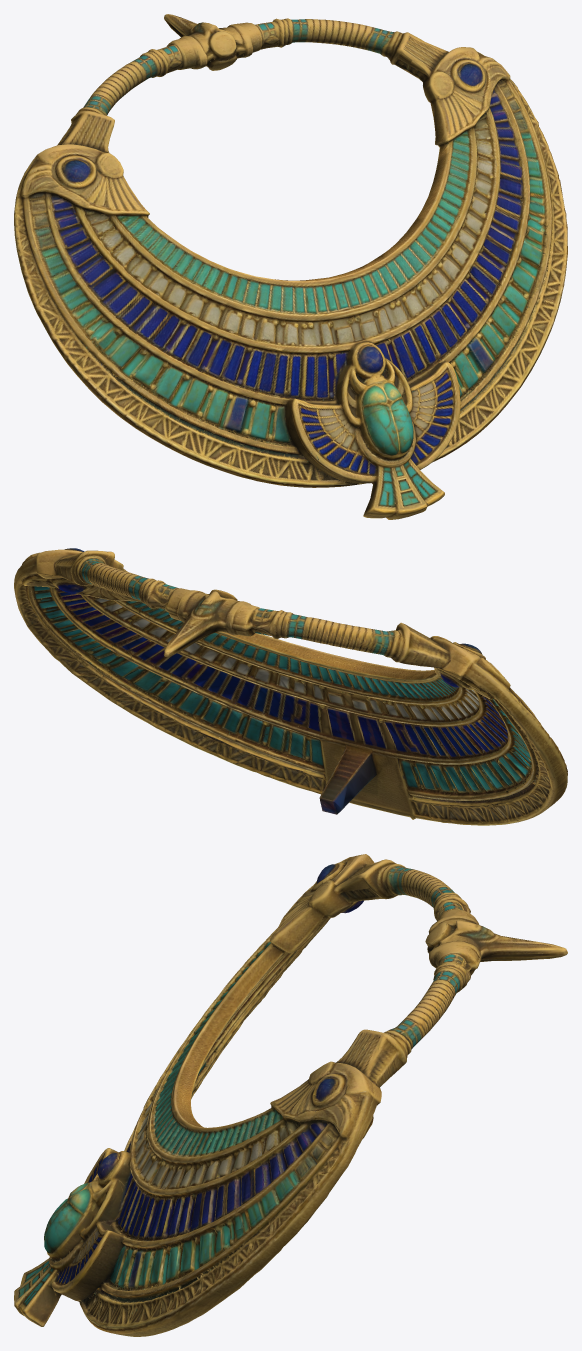
File: WF_EgyptianTombV2_BroadCollar.fbx
The picture shows the model from 3 angles, top to bottom: view 1: azimuth 30°, elevation 25°; view 2: azimuth 150°, elevation 25°; view 3: azimuth 270°, elevation 25°; orthographic projection. The views are drawn at different scales.
Visible parts, largest first — view 1: Mesh1.0; view 2: Mesh1.0; view 3: Mesh1.0.
Boxes of the visible parts, bbox=[...] form: Mesh1.0: bbox=[14, 14, 567, 519]; Mesh1.0: bbox=[14, 548, 567, 825]; Mesh1.0: bbox=[14, 854, 567, 1336].
Size of the model in its own units: 191 by 123 by 156.
Materials: 1 (1 with a texture image).
